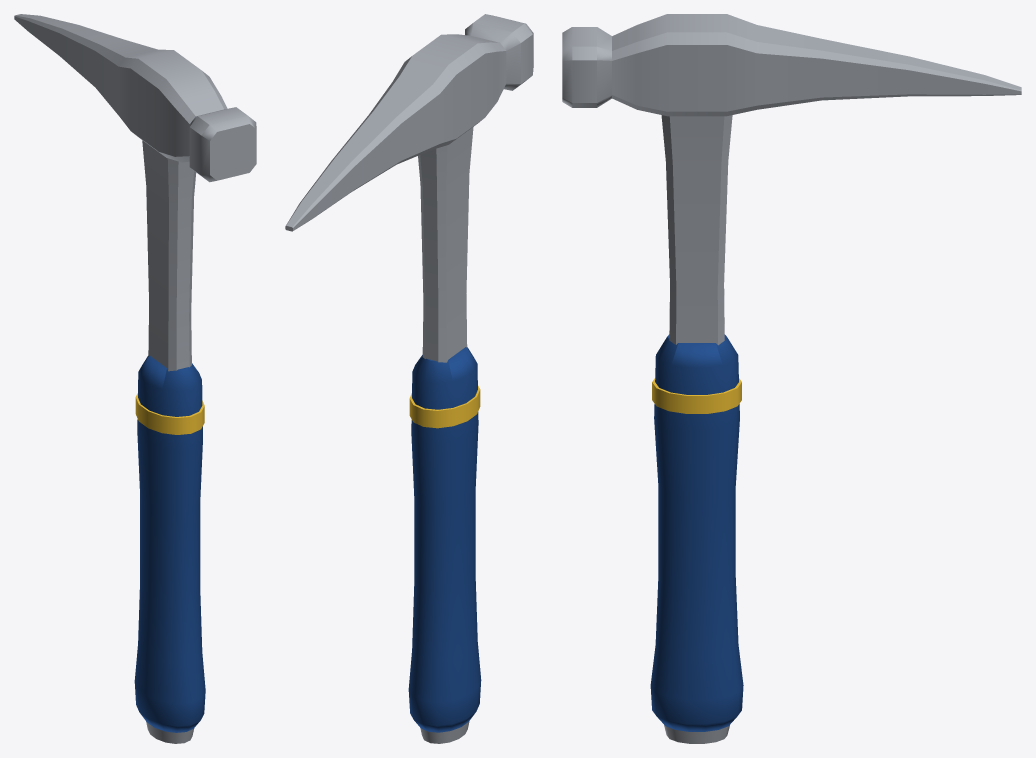
Rendered from RockHammer.obj.
3 views of the same model, side by side, from view 1: azimuth 30°, elevation 25°; view 2: azimuth 150°, elevation 25°; view 3: azimuth 270°, elevation 25° (orthographic). The views are drawn at different scales.
Visible parts, largest first — view 1: RockHammer; view 2: RockHammer; view 3: RockHammer.
Part boxes in pixels (box(x1,y1,x2,y2)): RockHammer: box(14, 14, 256, 743); RockHammer: box(285, 14, 533, 743); RockHammer: box(562, 14, 1021, 743).
Size of the model in its own units: 0.027 by 0.3145 by 0.184.
